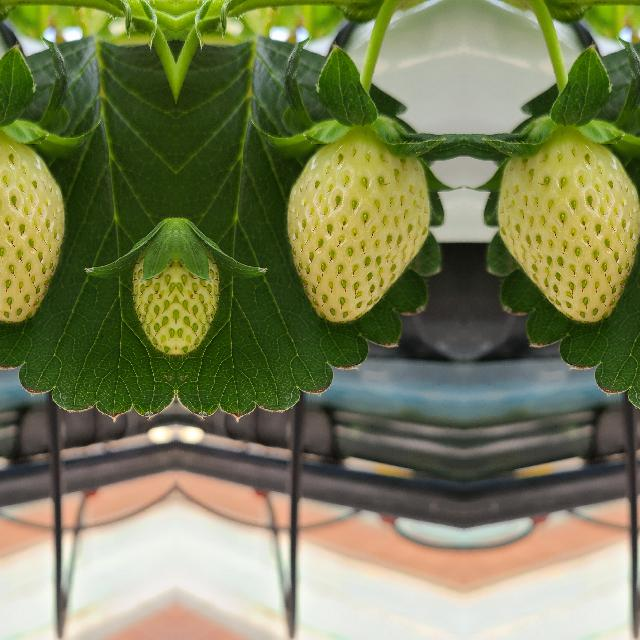Health_25: (283, 126, 432, 326), (494, 126, 640, 326), (0, 126, 67, 326), (174, 234, 220, 360), (130, 234, 176, 360)
